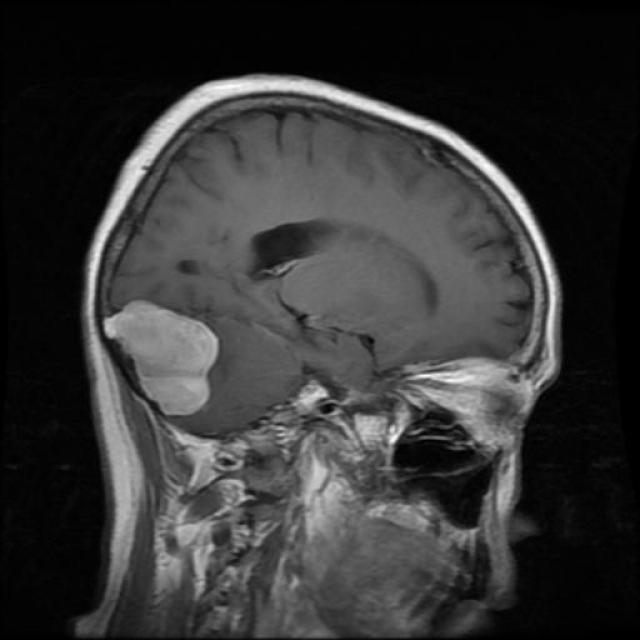Brain-Tumor: (97, 291, 227, 425)
